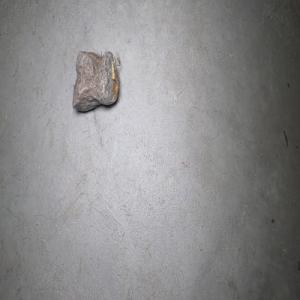Rock: (72, 50, 120, 111)
